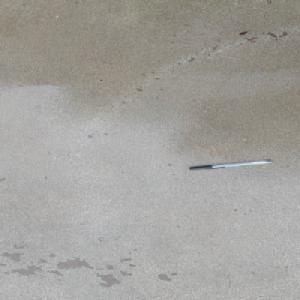Pen: (187, 159, 273, 171)
